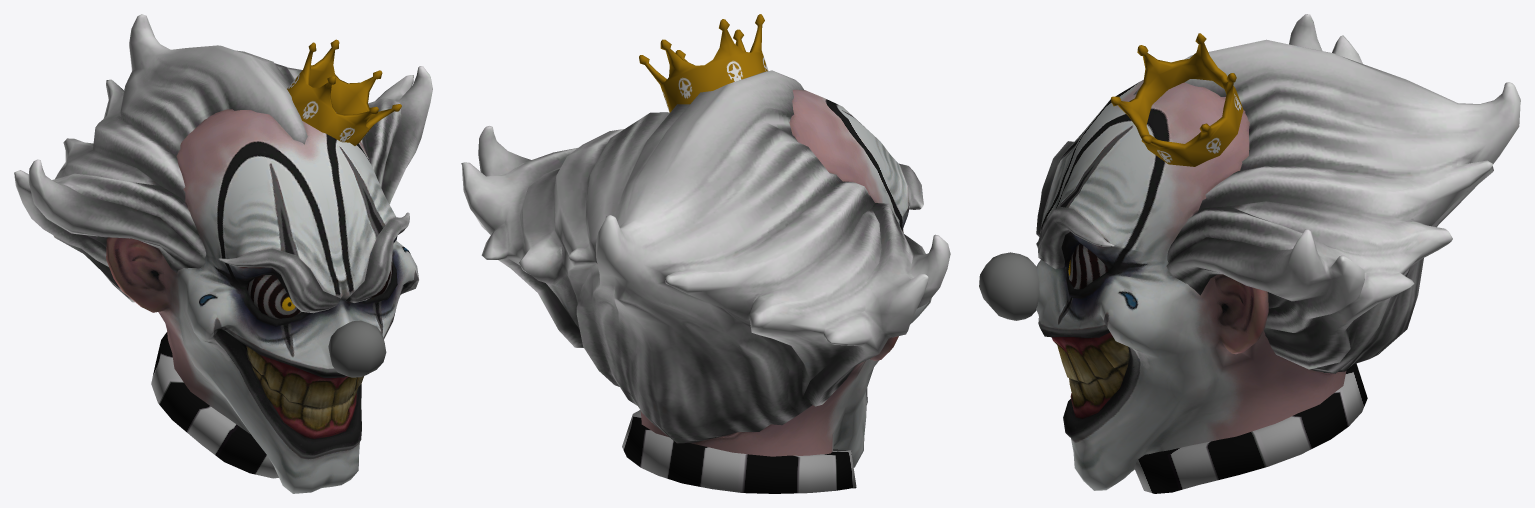
The model's file is SurvivorMale_Head_Mask_Clown_LOD0.glb.
The picture shows the model from 3 angles, left to right: view 1: azimuth 30°, elevation 25°; view 2: azimuth 150°, elevation 25°; view 3: azimuth 270°, elevation 25°; orthographic projection. The views are drawn at different scales.
Parts seen in each view (by area): view 1: Hoodie; view 2: Hoodie; view 3: Hoodie.
Part boxes in pixels (x1=…): Hoodie: x1=14, y1=14, x2=432, y2=493; Hoodie: x1=461, y1=14, x2=950, y2=493; Hoodie: x1=979, y1=14, x2=1520, y2=493.
Bounding box in the file's own units: 0.3788 × 0.366 × 0.3849.
Materials: 1 (1 with a texture image).
